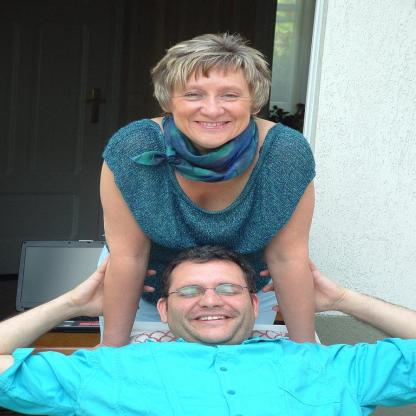board: (21, 238, 100, 330)
